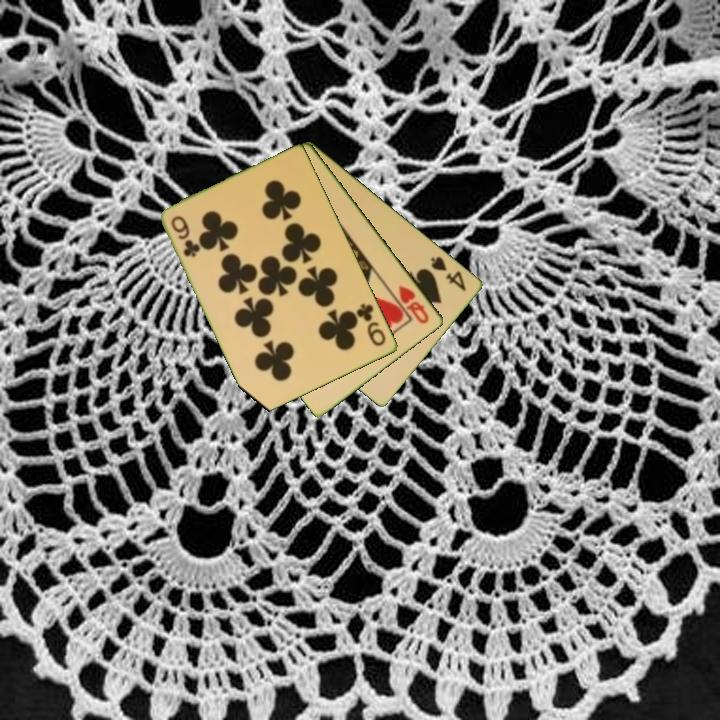4s: (427, 253, 470, 294)
9c: (353, 300, 389, 349), (168, 212, 203, 260)
Qh: (395, 282, 432, 327)
